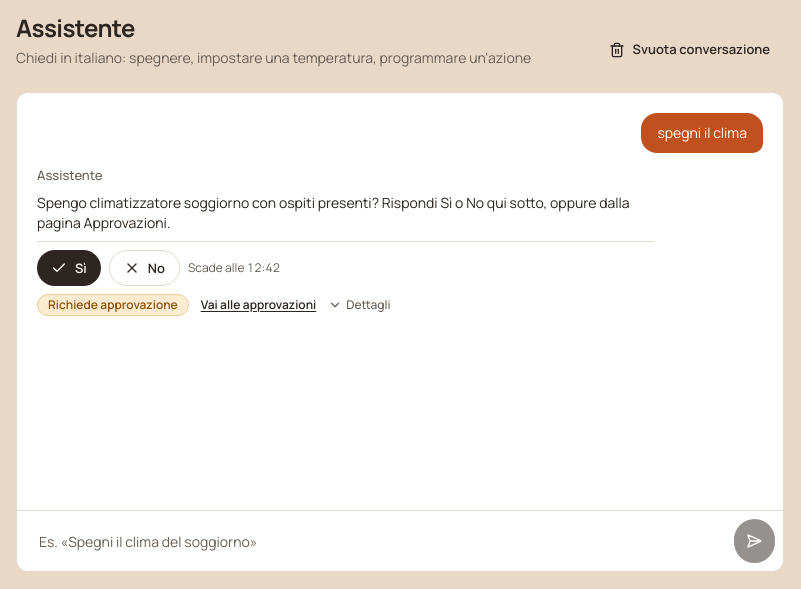
Test: Assistente: dopo il proprio «Sì» (P-75) › resta «Approvato: il comando parte…», mai «Già decisa», e il badge diventa «Approvata»
Expected: the text with test id "ask-status-ask-0007" reads "Richiede approvazione", left=48, top=296, right=178, bottom=313
Click the button with test id "ask-confirm-yes-ask-0007" at [69, 268], box left=37, top=250, right=101, bottom=286
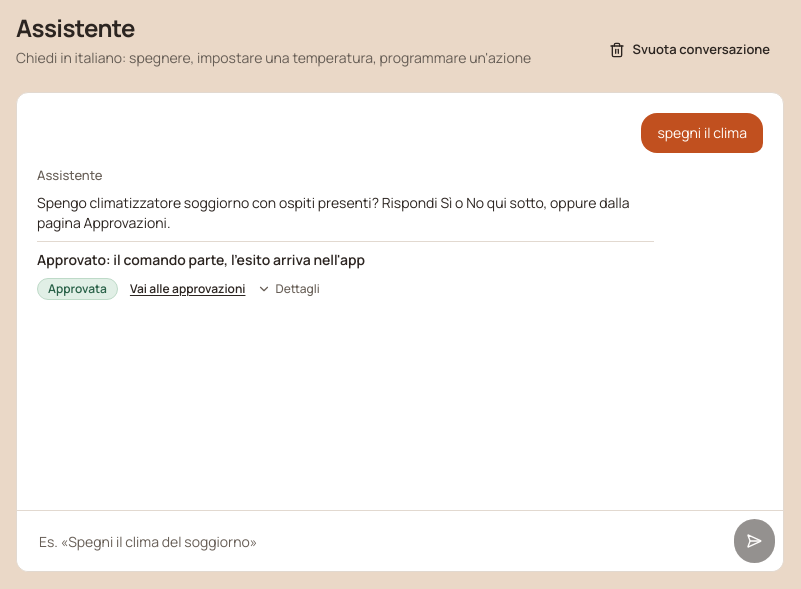
Expected: the text with test id "ask-status-ask-0007" reads "Approvata", left=48, top=280, right=107, bottom=297
Expected: the text with test id "ask-confirm-result-ask-0007" reads "Approvato: il comando parte, l'esito arriva nell'app", left=37, top=250, right=365, bottom=269
Expected: the element with test id "ask-message-ask-0007" no longer shows "Richiede approvazione", left=37, top=113, right=763, bottom=300
